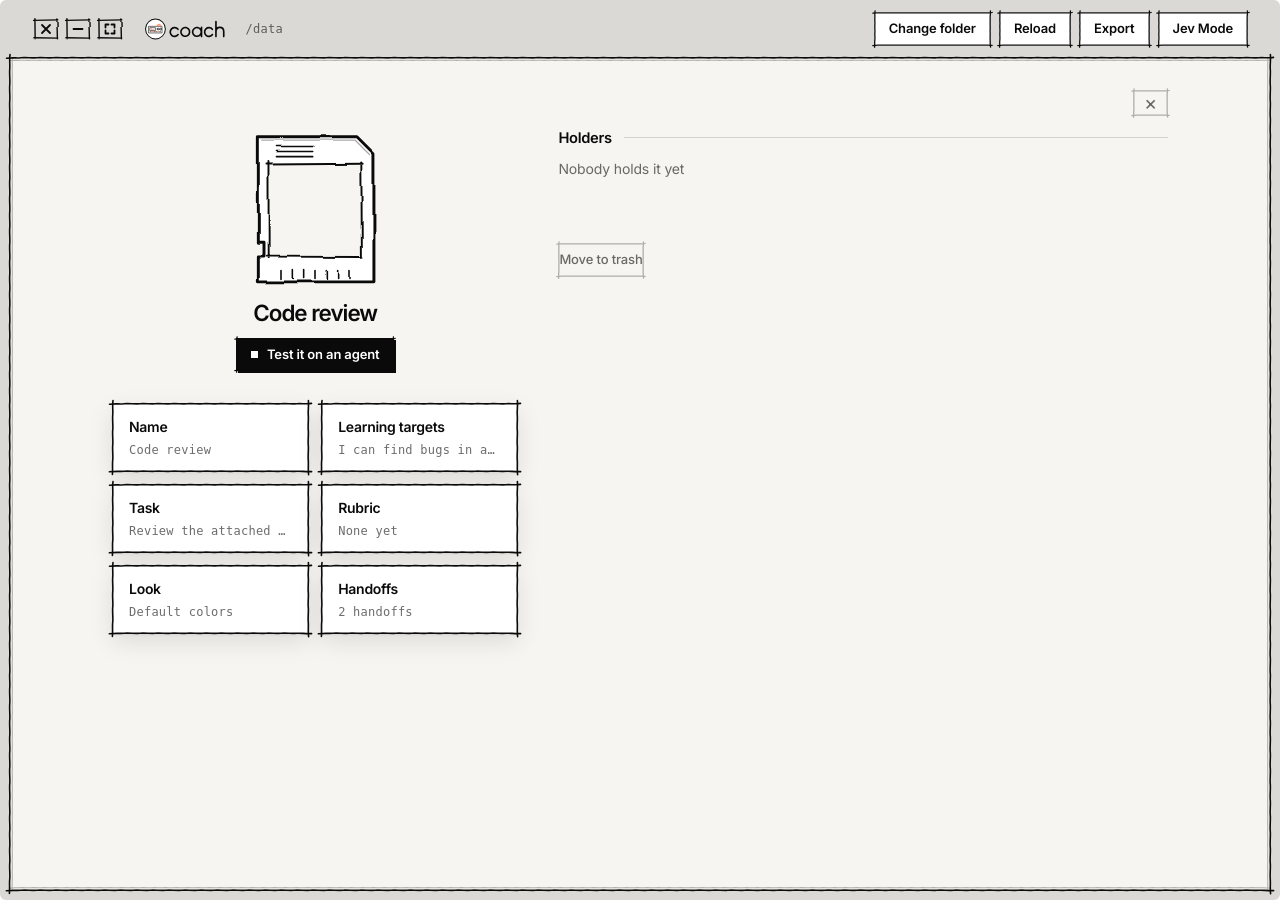
Test: the handoffs deck › opens from the badge's Handoffs part and draws the box with one button per handoff, the default marked
Click the button "Handoffs 2 handoffs" at (420, 600), box [321,565,518,634]
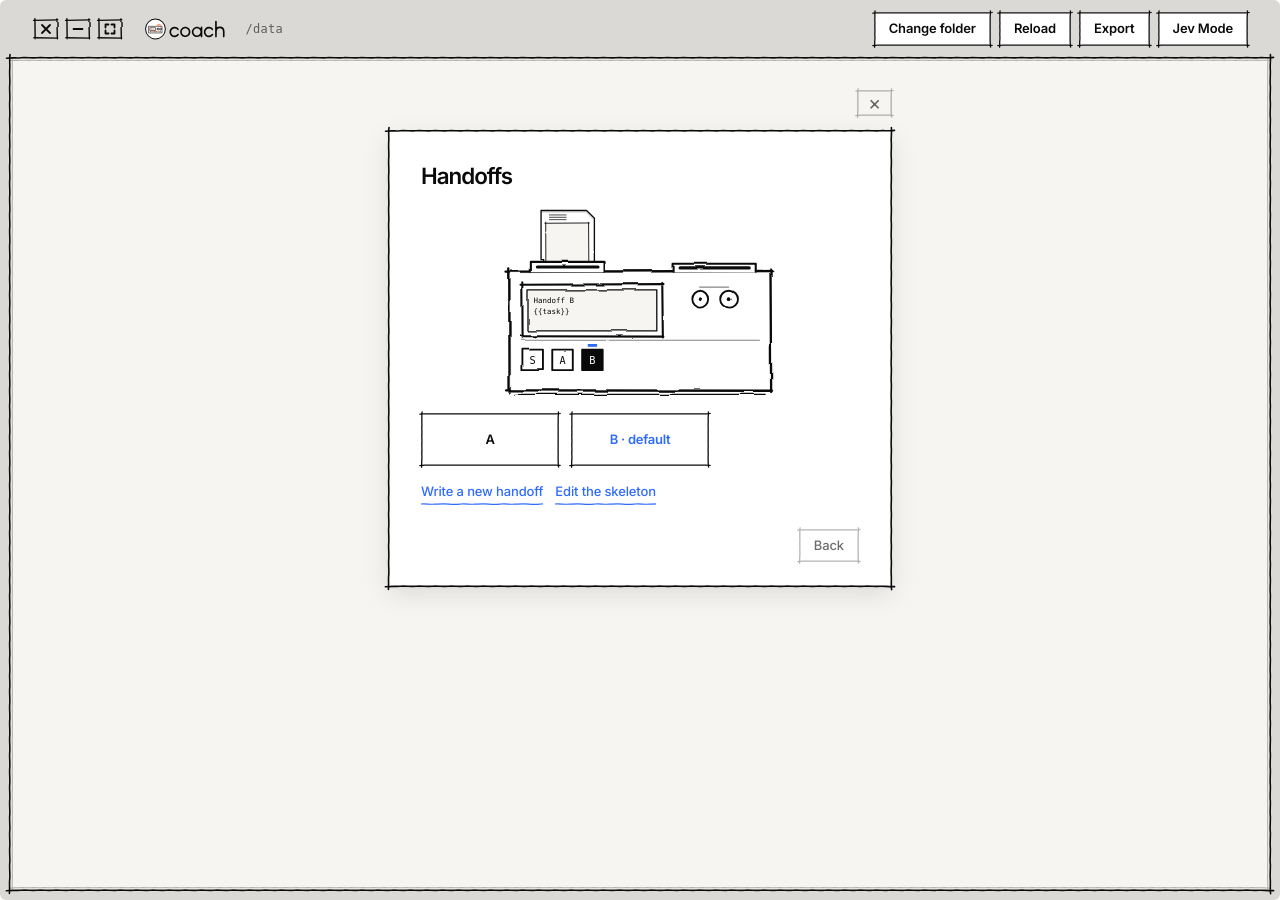
Check: the heading "Handoffs" is shown, box [421,162,512,188]
Check: the buttons read "A", "B · default", in this order, box [421,412,559,466]; [571,412,709,466]
Check: the button "Write a new handoff" is shown, box [421,482,543,504]
